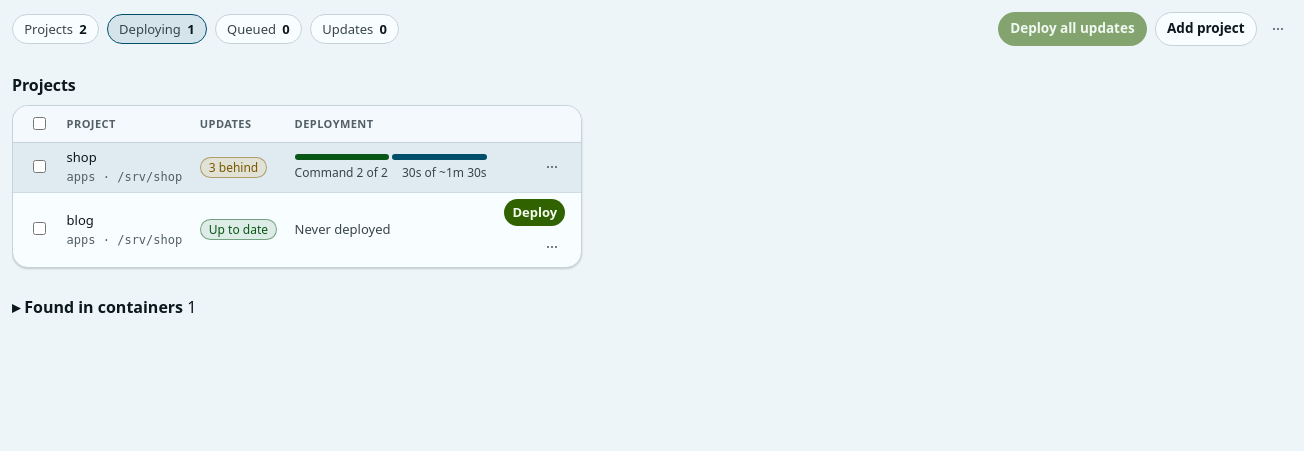
Test: DeployPage › shows updates, progress and projects found in containers
The width and height of the screenshot is (1304, 451).
Expected: the button "shop" is shown, [67,148,182,167]
Expected: the text "3 behind" is shown, [200,157,267,178]
Click the button "▸ Found in containers 1". click: [104, 307]
box: [12,296,196,319]
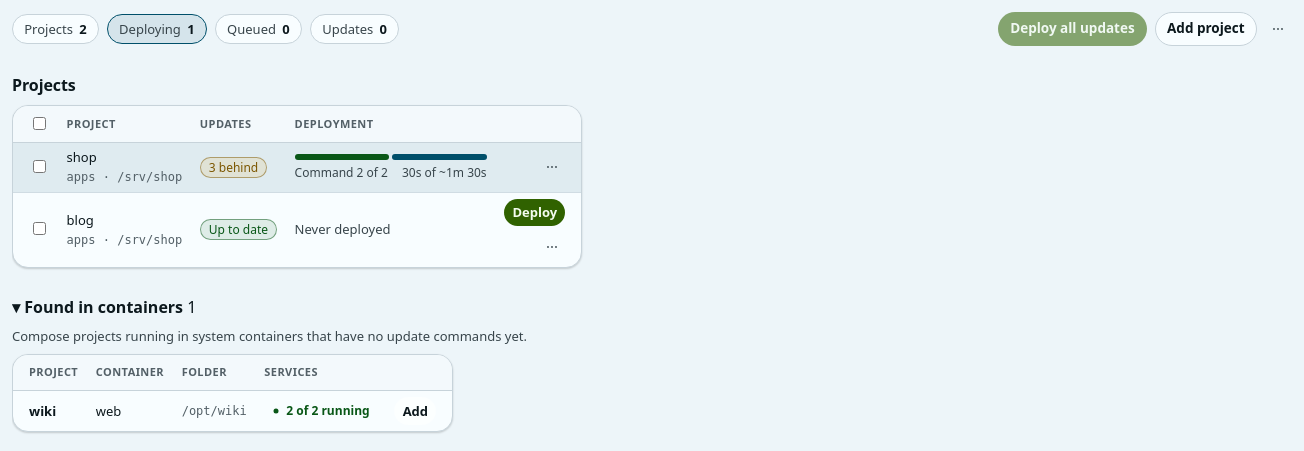
Result: the text "wiki" is shown at [29,402,56,420]
